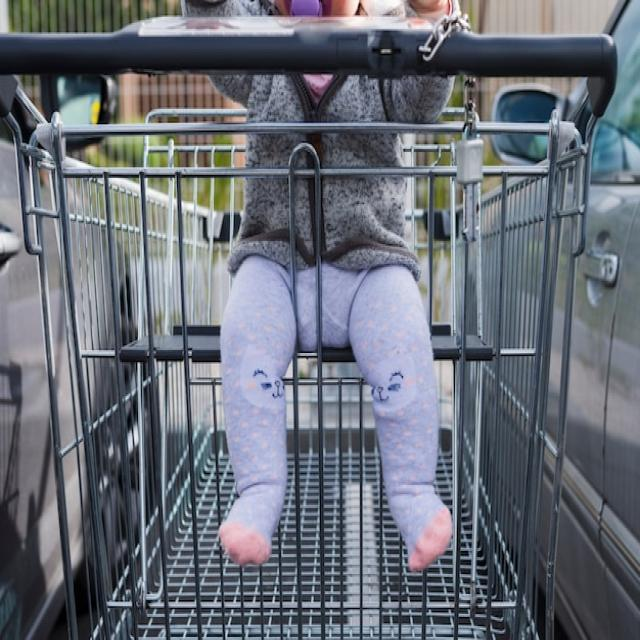Person: (179, 0, 486, 570)
